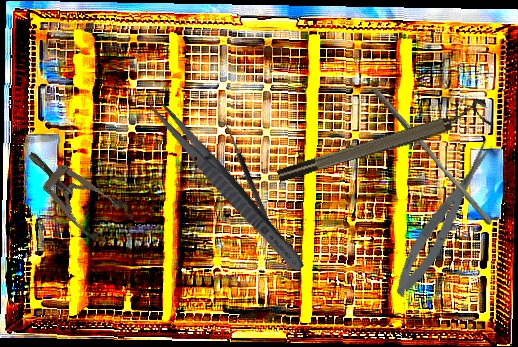Dressing Forceps: (142, 93, 310, 277)
Fixation Ring: (272, 96, 493, 187)
Hook Surgical: (214, 116, 279, 245)
Micro Scissor: (385, 136, 505, 302)
Pusher: (365, 86, 499, 227)
Speculum: (14, 134, 137, 251)
